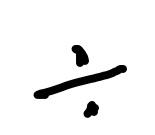div: (30, 46, 126, 116)
